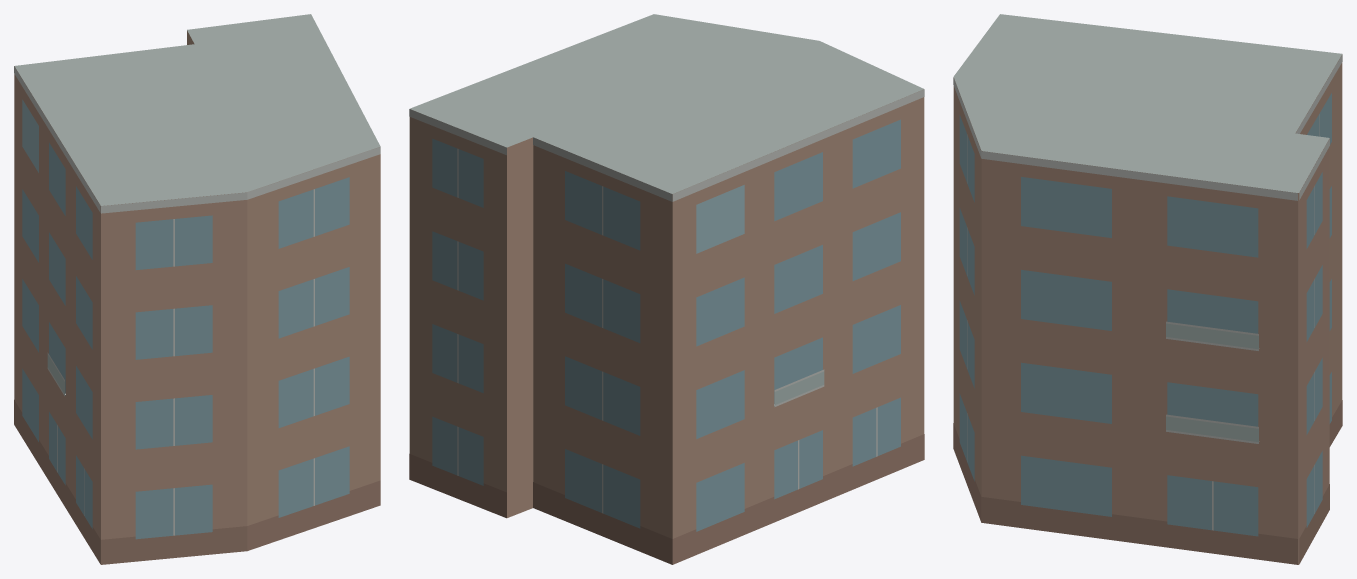
File: survey-upis-32972357.glb
The picture shows the model from 3 angles, left to right: view 1: azimuth 30°, elevation 25°; view 2: azimuth 150°, elevation 25°; view 3: azimuth 270°, elevation 25°; orthographic projection. The views are drawn at different scales.
Parts seen in each view (by area): view 1: survey-upis-32972357.tmp; view 2: survey-upis-32972357.tmp; view 3: survey-upis-32972357.tmp.
Part boxes in pixels (box(x1,y1,x2,y2)): survey-upis-32972357.tmp: box(14, 14, 380, 564); survey-upis-32972357.tmp: box(409, 14, 924, 564); survey-upis-32972357.tmp: box(953, 14, 1342, 564).
Size of the model in its own units: 11.99 by 11.6 by 11.01.
